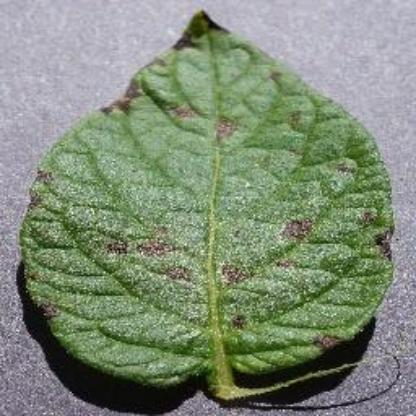Early-Blight: (20, 4, 400, 404)
